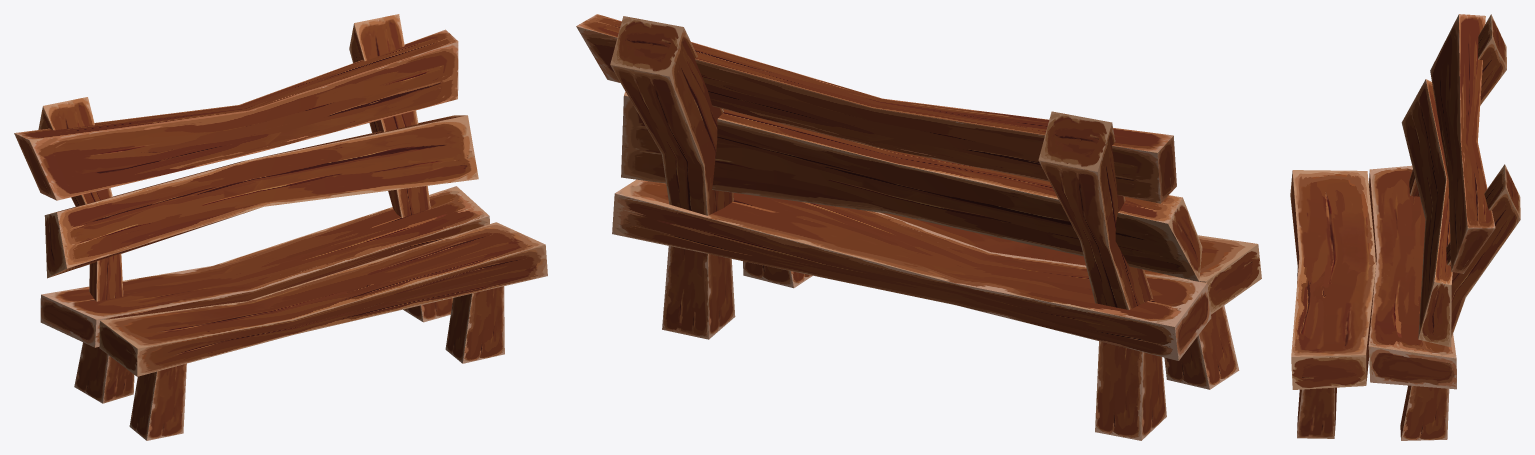
Rendered from SM_PROP_bench_02.fbx.
3 renders of one model, left to right at view 1: azimuth 30°, elevation 25°; view 2: azimuth 150°, elevation 25°; view 3: azimuth 270°, elevation 25°, orthographic. The views are drawn at different scales.
Parts seen in each view (by area): view 1: SM_PROP_bench_02; view 2: SM_PROP_bench_02; view 3: SM_PROP_bench_02.
Boxes of the visible parts, x1,y1,x2,y2 form: SM_PROP_bench_02: [14, 14, 547, 440]; SM_PROP_bench_02: [576, 14, 1261, 440]; SM_PROP_bench_02: [1290, 14, 1520, 440].
Size of the model in its own units: 189 by 110 by 89.65.
